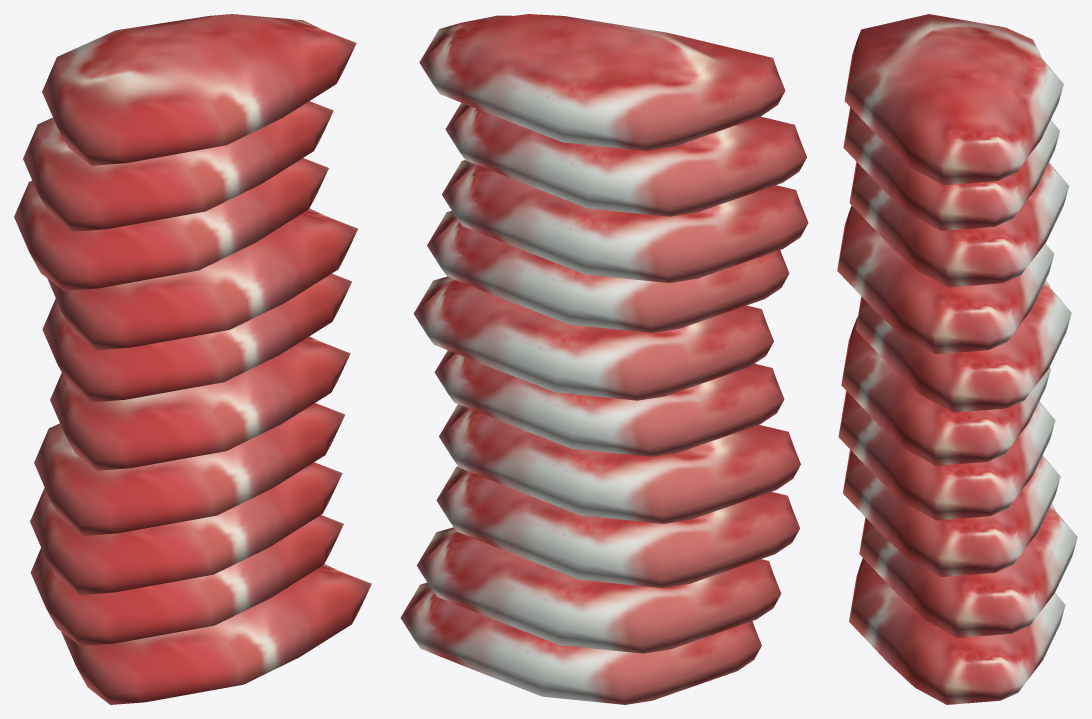
File: MeatStack_RawBeef.glb
3 renders of one model, left to right at view 1: azimuth 30°, elevation 25°; view 2: azimuth 150°, elevation 25°; view 3: azimuth 270°, elevation 25°, orthographic. The views are drawn at different scales.
Visible parts, largest first — view 1: MeatStack_RawBeef; view 2: MeatStack_RawBeef; view 3: MeatStack_RawBeef.
Part boxes in pixels (x1,y1,x2,y2): MeatStack_RawBeef: [14, 14, 371, 704]; MeatStack_RawBeef: [400, 14, 808, 704]; MeatStack_RawBeef: [837, 14, 1077, 704].
Bounding box in the file's own units: 0.5601 × 0.9594 × 0.3568.
1 material, 1 textured.
